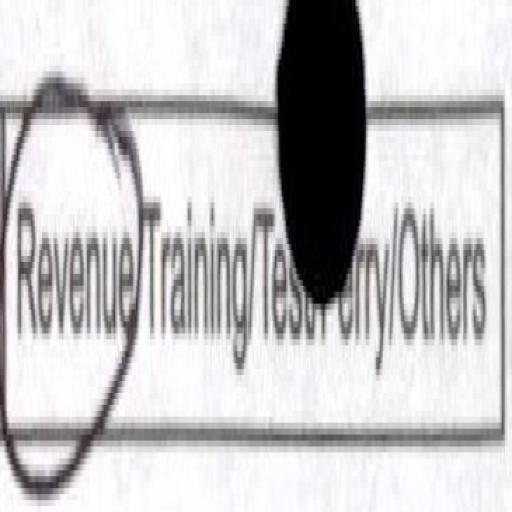check: (1, 21, 146, 512)
